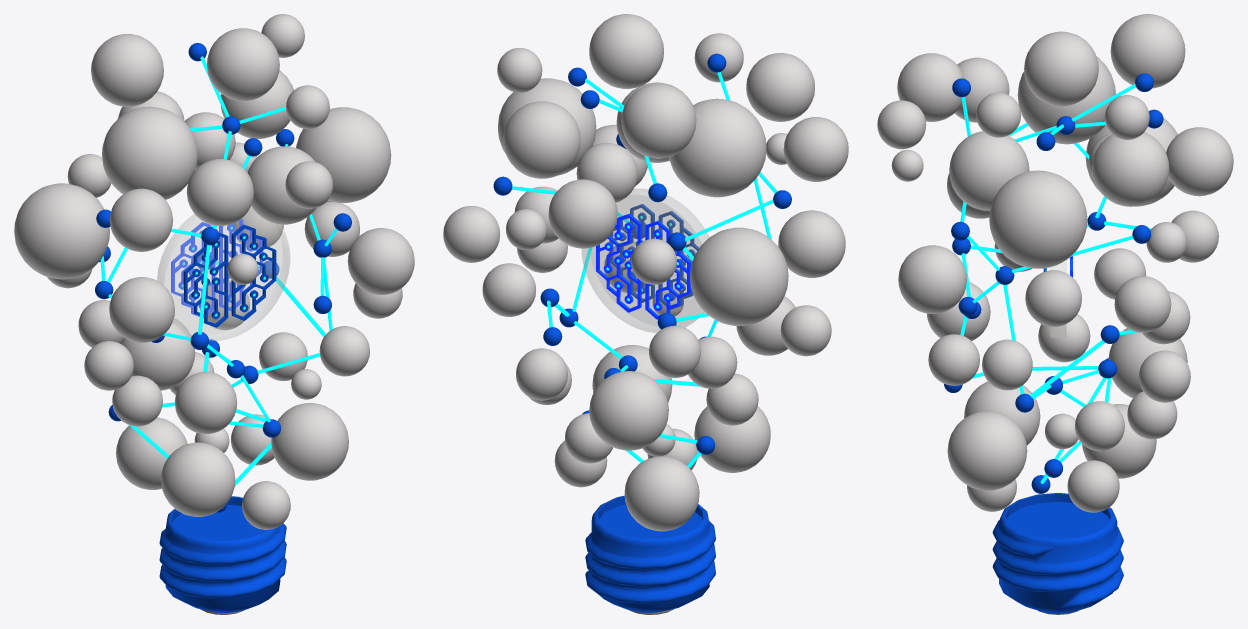
The picture shows the model from 3 angles, left to right: view 1: azimuth 30°, elevation 25°; view 2: azimuth 150°, elevation 25°; view 3: azimuth 270°, elevation 25°; orthographic projection. The views are drawn at different scales.
Parts seen in each view (by area): view 1: outer, logo, base; view 2: outer, base, logo; view 3: outer, base.
Boxes of the visible parts, x1=… form: outer: x1=14, y1=14, x2=414, y2=529; logo: x1=157, y1=206, x2=289, y2=340; base: x1=159, y1=496, x2=286, y2=614; outer: x1=443, y1=14, x2=848, y2=531; base: x1=585, y1=495, x2=715, y2=614; logo: x1=582, y1=189, x2=709, y2=332; outer: x1=877, y1=14, x2=1233, y2=512; base: x1=992, y1=493, x2=1123, y2=614.
Bounding box in the file's own units: 0.0996 × 0.1694 × 0.0933.
